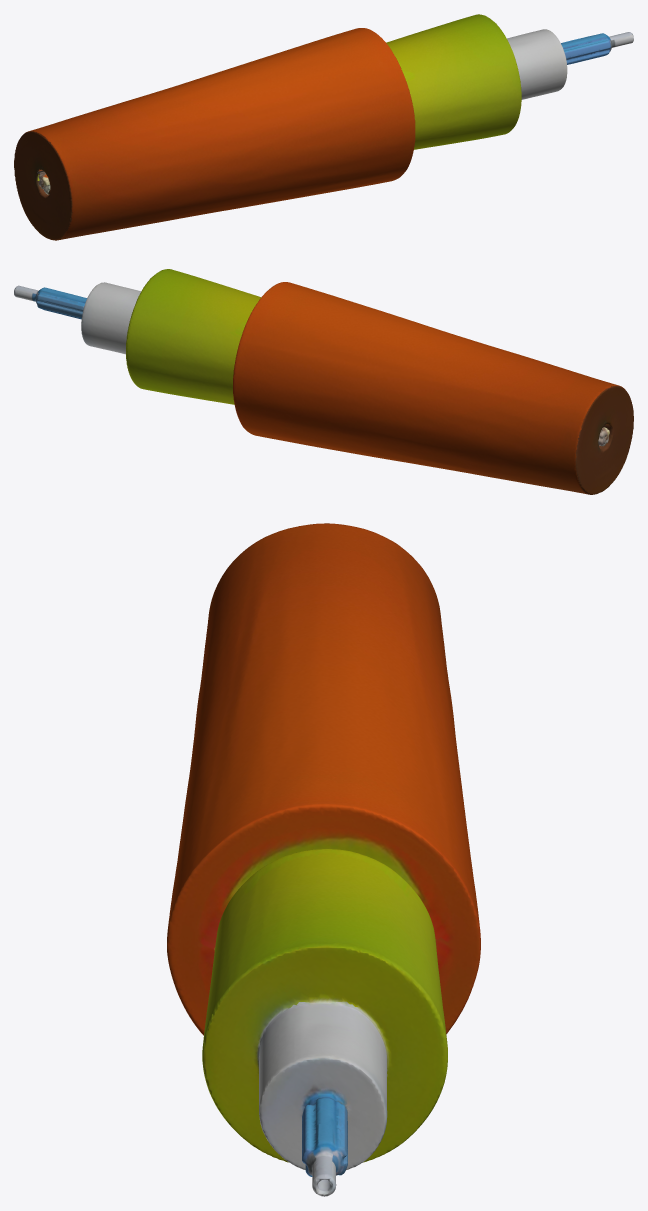
The model's file is fiber-optic.glb.
3 views of the same model, one above another, from view 1: azimuth 30°, elevation 25°; view 2: azimuth 150°, elevation 25°; view 3: azimuth 270°, elevation 25° (orthographic). The views are drawn at different scales.
Parts seen in each view (by area): view 1: tripo_node_cd6ba5f1-0a4d-4eb1-9ef6-6d8ac7e2aae2; view 2: tripo_node_cd6ba5f1-0a4d-4eb1-9ef6-6d8ac7e2aae2; view 3: tripo_node_cd6ba5f1-0a4d-4eb1-9ef6-6d8ac7e2aae2.
Part boxes in pixels (<box>): tripo_node_cd6ba5f1-0a4d-4eb1-9ef6-6d8ac7e2aae2: <box>14,14,633,240</box>; tripo_node_cd6ba5f1-0a4d-4eb1-9ef6-6d8ac7e2aae2: <box>14,269,633,494</box>; tripo_node_cd6ba5f1-0a4d-4eb1-9ef6-6d8ac7e2aae2: <box>167,523,480,1196</box>.
Size of the model in its own units: 1 by 0.232 by 0.2305.
1 material, 1 textured.
